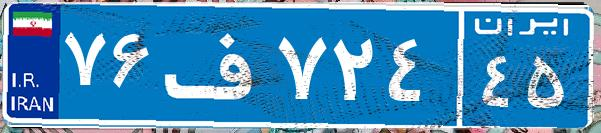2: (330, 28, 385, 110)
4: (385, 28, 445, 110), (475, 38, 525, 113)
5: (525, 38, 570, 115)
6: (110, 28, 158, 105)
7: (273, 28, 330, 110), (57, 26, 110, 107)
ف: (158, 15, 273, 115)
